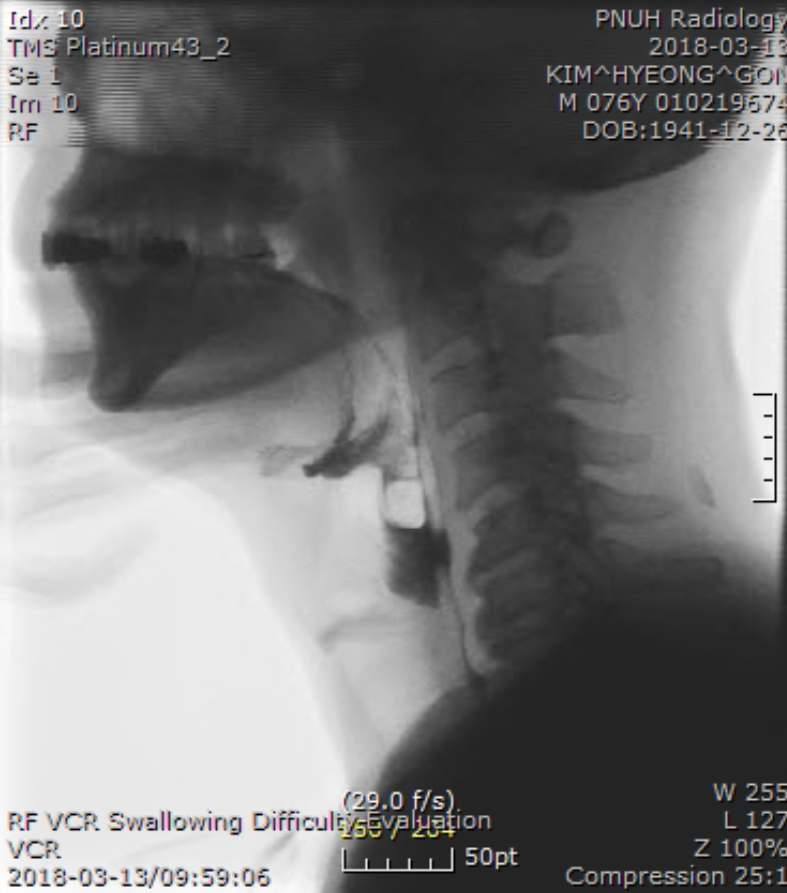dros: (407, 524, 468, 635)
food: (279, 383, 462, 630)
uros: (287, 416, 383, 500)
